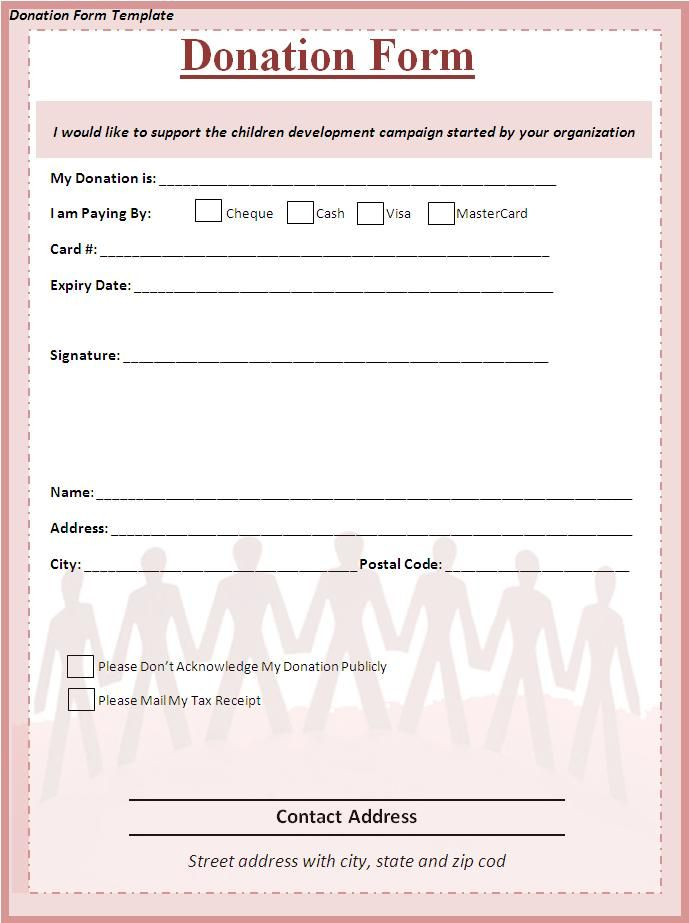checkbox: (63, 649, 98, 681), (351, 197, 387, 228), (191, 195, 227, 224), (64, 685, 97, 716), (285, 196, 318, 227), (424, 198, 459, 227)
textline: (92, 470, 634, 504), (118, 331, 554, 369), (96, 230, 552, 262), (107, 512, 636, 539), (130, 269, 557, 297), (154, 166, 558, 190), (79, 549, 359, 576), (441, 546, 635, 576)
